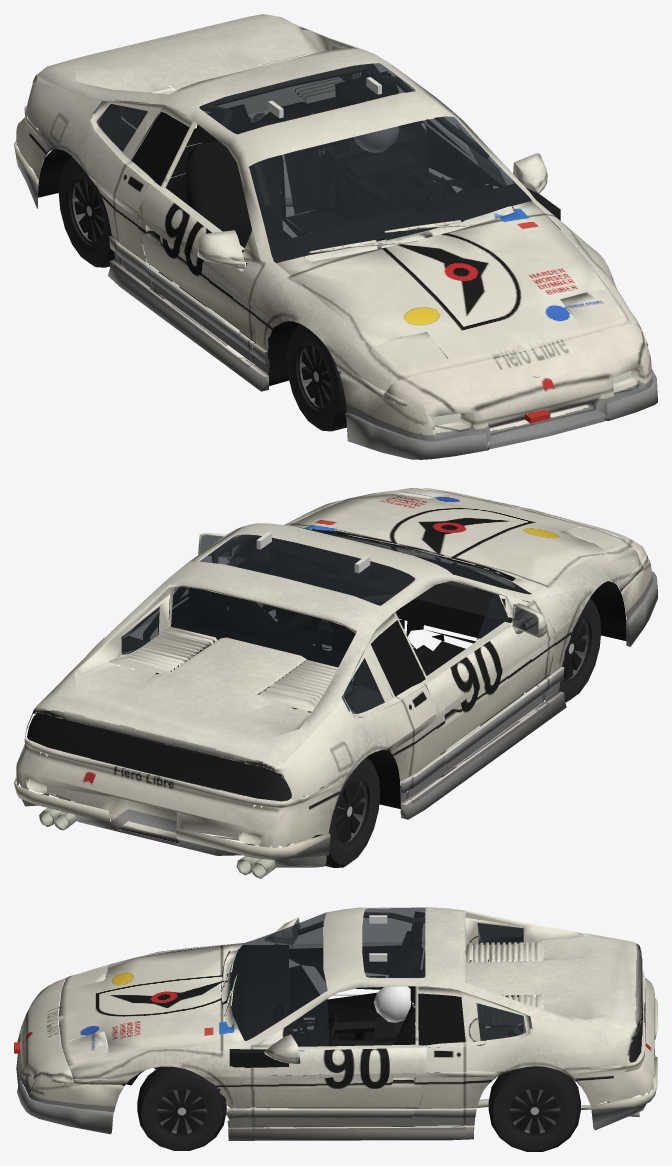
3 views of the same model, one above another, from view 1: azimuth 30°, elevation 25°; view 2: azimuth 150°, elevation 25°; view 3: azimuth 270°, elevation 25° (orthographic). The views are drawn at different scales.
Parts seen in each view (by area): view 1: body, wheel_fr, wheel_rr; view 2: body, wheel_rr, wheel_fr; view 3: body, wheel_rl, wheel_fl.
Boxes of the visible parts, x1,y1,x2,y2 form: body: [14, 14, 657, 459]; wheel_fr: [286, 324, 346, 431]; wheel_rr: [58, 156, 142, 267]; body: [14, 488, 657, 878]; wheel_rr: [303, 757, 380, 867]; wheel_fr: [525, 598, 601, 702]; body: [14, 907, 657, 1140]; wheel_rl: [488, 1066, 580, 1151]; wheel_fl: [137, 1066, 226, 1150].
Bounding box in the file's own units: 2.1 × 1.22 × 4.33.
Materials: 2 (1 with a texture image).
